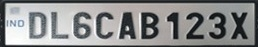character: (49, 9, 70, 40), (93, 10, 115, 39), (183, 12, 205, 40), (72, 10, 93, 39), (116, 11, 137, 40), (138, 11, 159, 40), (230, 10, 249, 41), (27, 11, 48, 39), (207, 12, 227, 40), (166, 11, 181, 40)
